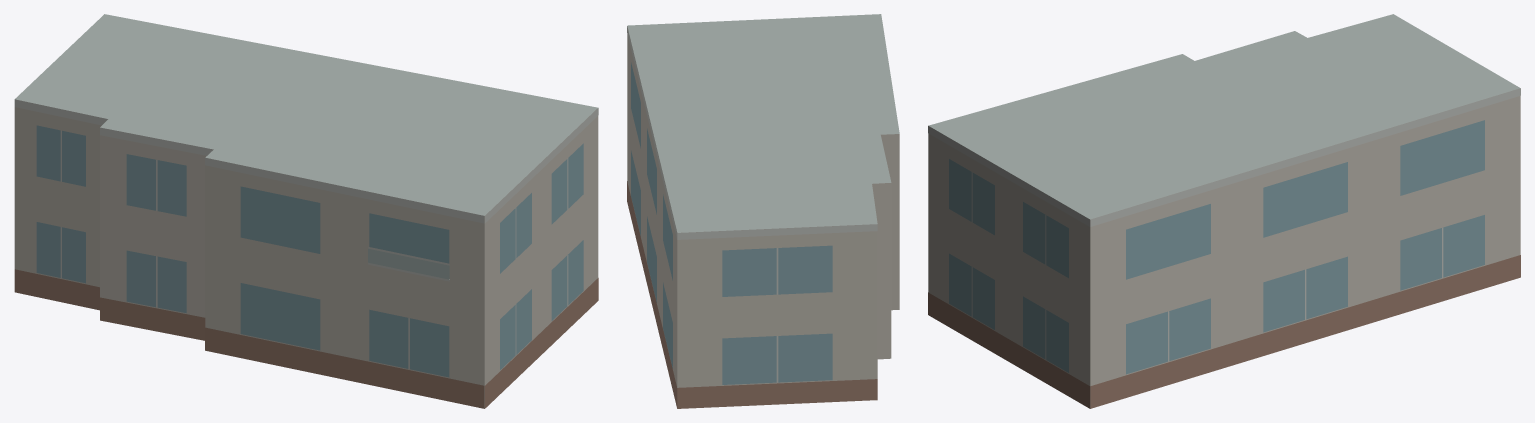
Rendered from survey-upis-32806717.glb.
The picture shows the model from 3 angles, left to right: view 1: azimuth 30°, elevation 25°; view 2: azimuth 150°, elevation 25°; view 3: azimuth 270°, elevation 25°; orthographic projection. The views are drawn at different scales.
Visible parts, largest first — view 1: survey-upis-32806717.tmp; view 2: survey-upis-32806717.tmp; view 3: survey-upis-32806717.tmp.
Boxes of the visible parts, <box> form: survey-upis-32806717.tmp: <box>14,14,598,408</box>; survey-upis-32806717.tmp: <box>627,14,899,408</box>; survey-upis-32806717.tmp: <box>928,14,1520,408</box>.
Bounding box in the file's own units: 14.21 × 6.1 × 17.31.
